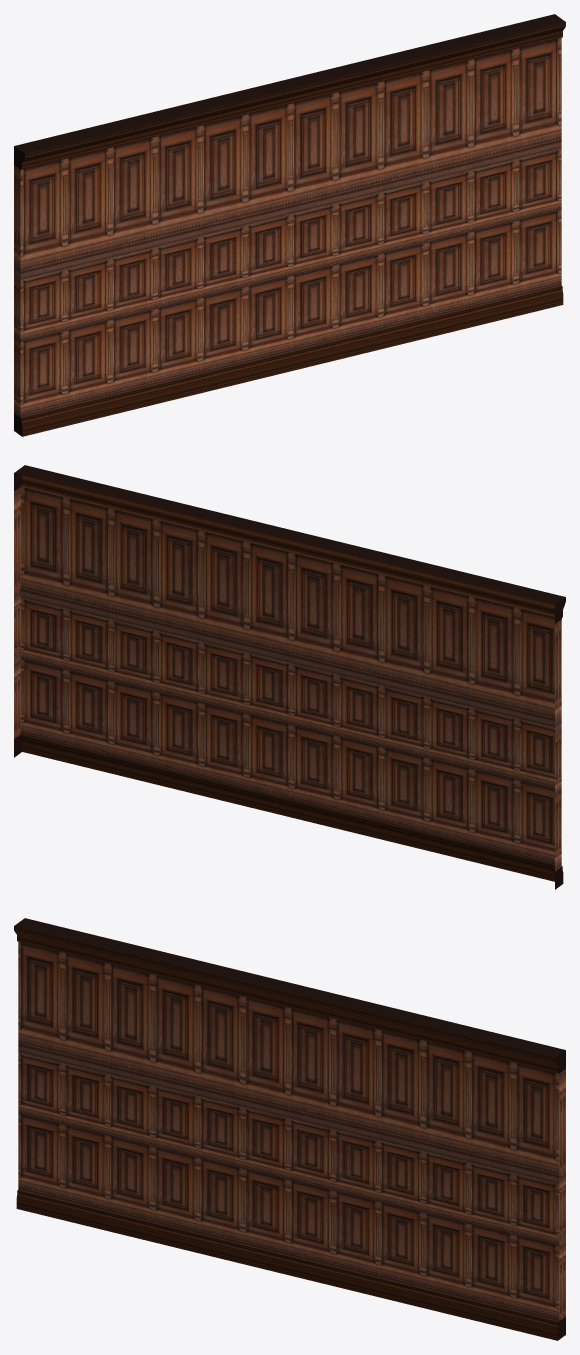
The model's file is WoodPanelwallLarge.fbx.
3 views of the same model, one above another, from view 1: azimuth 30°, elevation 25°; view 2: azimuth 150°, elevation 25°; view 3: azimuth 330°, elevation 25° (orthographic).
Visible parts, largest first — view 1: WallSmoothLong.003; view 2: WallSmoothLong.003; view 3: WallSmoothLong.003.
Part boxes in pixels (x1,y1,x2,y2): WallSmoothLong.003: (14,14,565,436); WallSmoothLong.003: (14,465,565,889); WallSmoothLong.003: (14,918,565,1340).
Bounding box in the file's own units: 739 × 371 × 25.9.
